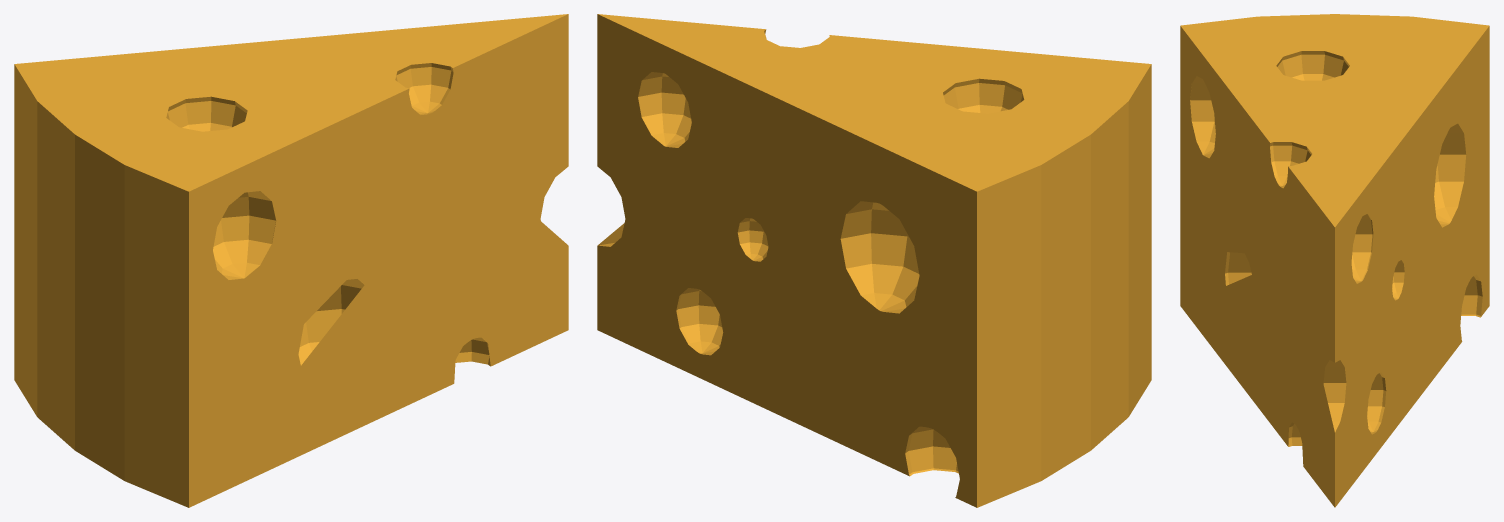
File: pwynir.fbx
The picture shows the model from 3 angles, left to right: view 1: azimuth 30°, elevation 25°; view 2: azimuth 150°, elevation 25°; view 3: azimuth 270°, elevation 25°; orthographic projection. The views are drawn at different scales.
Visible parts, largest first — view 1: peynir; view 2: peynir; view 3: peynir.
Part boxes in pixels (box(x1,y1,x2,y2)): peynir: box(14, 14, 568, 507); peynir: box(597, 14, 1151, 507); peynir: box(1180, 14, 1489, 507).
Size of the model in its own units: 172 by 105 by 105.
Materials: 1 (1 with a texture image).
